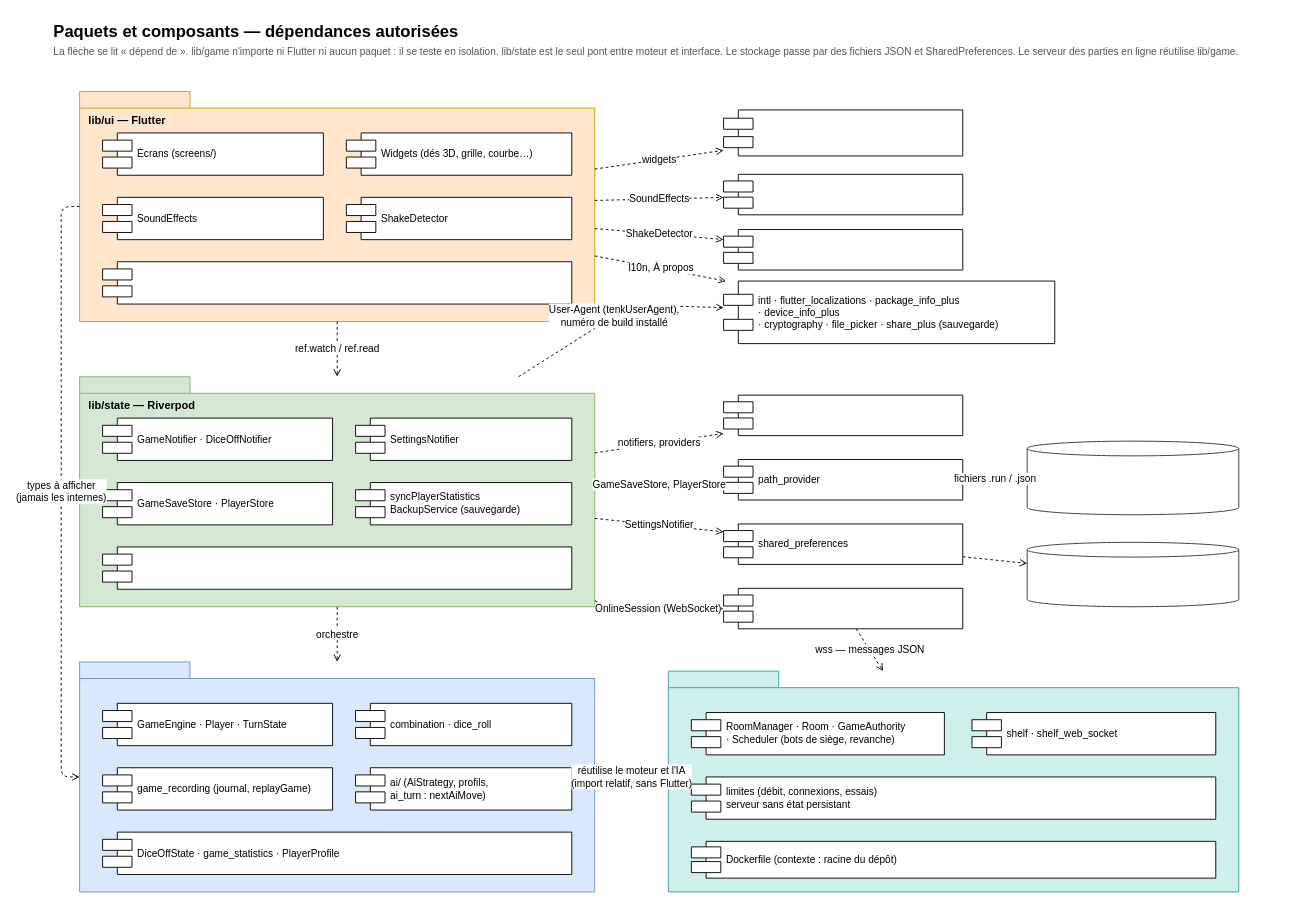
The diagram is 1309 pixels wide and 908 high, and some of its shapes have lost their labels. Here are the shapes that lost their labels. From the top down, the box of each, then its label:
(723, 109, 963, 156): flutter_scene · vector_math (dés 3D)
(723, 173, 963, 215): audioplayers
(723, 229, 963, 270): sensors_plus
(102, 261, 572, 304): navigation · thème · l10n
(723, 394, 963, 436): flutter_riverpod
(1026, 440, 1239, 515): Documents de l'app in-progress/ · over/ · players/
(102, 546, 572, 589): displayNamesFor · providers de rejeu
(1026, 541, 1239, 607): Préférences (SharedPreferences)
(723, 587, 963, 629): web_socket_channel
(79, 661, 595, 892): lib/game — Dart pur
(667, 670, 1239, 892): server/ — Dart (serveur des parties en ligne)
